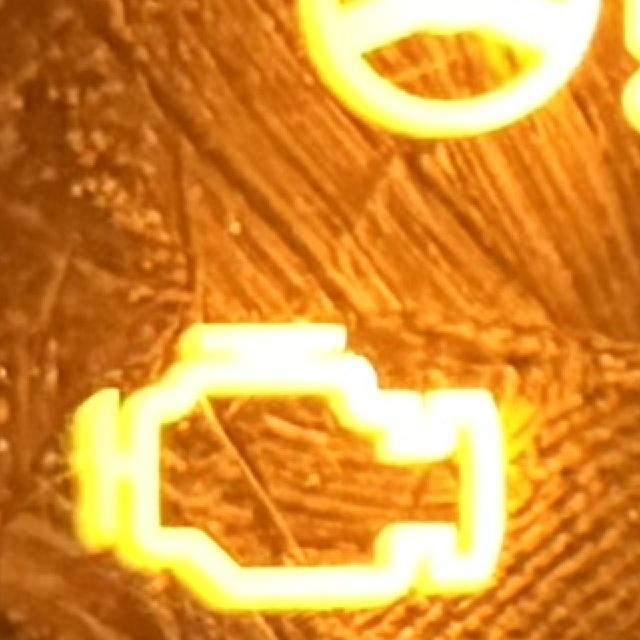Engine Issue: (68, 319, 514, 619)
